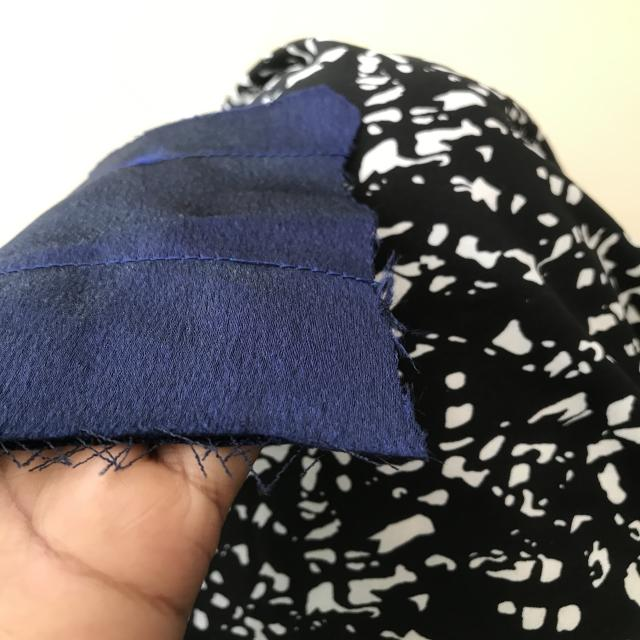skip: (218, 244, 300, 284)
